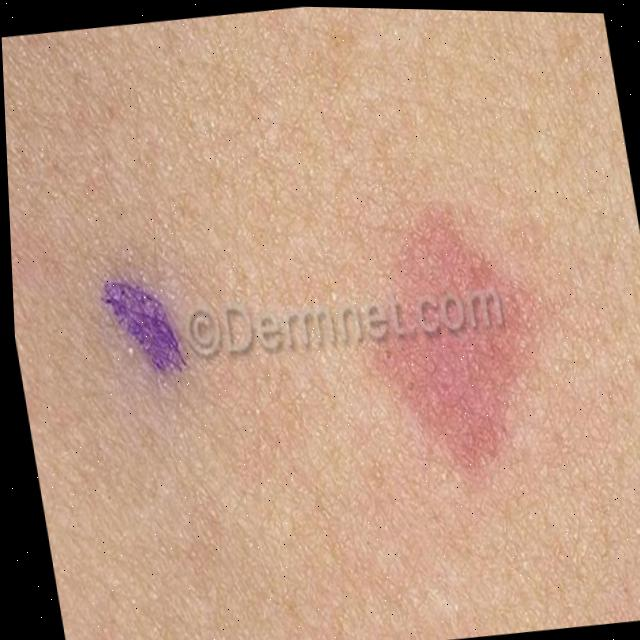Eczema: (345, 192, 564, 491)
